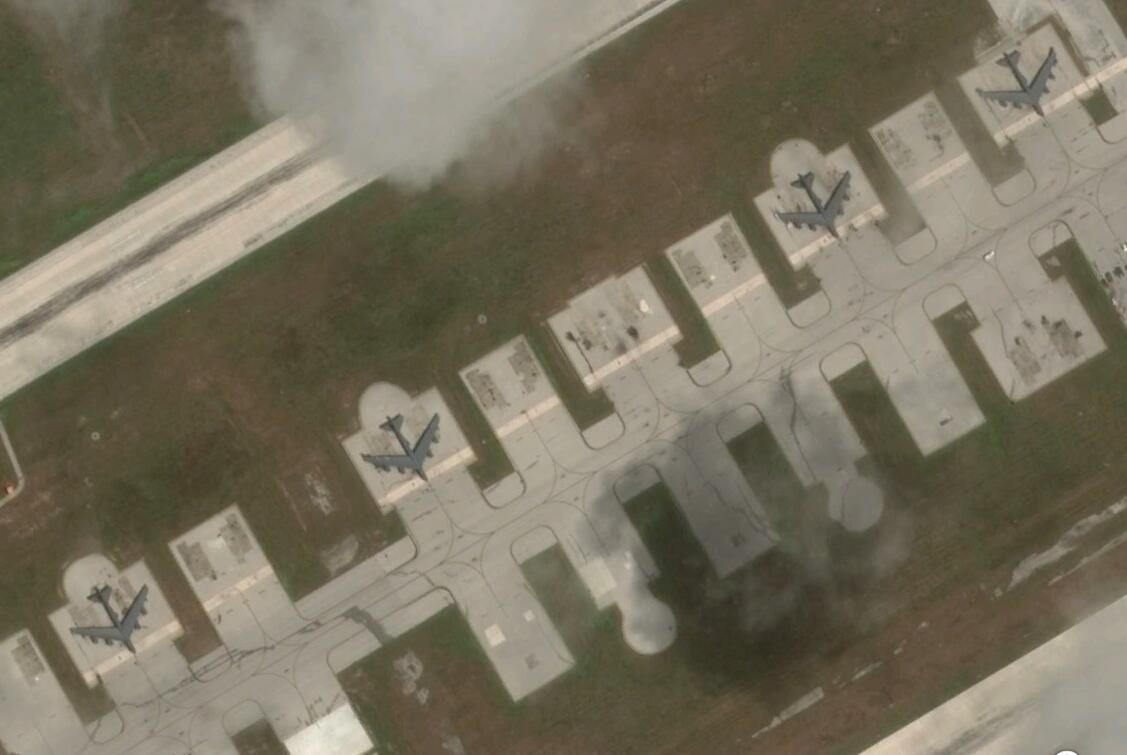A8: (980, 48, 1064, 121), (361, 414, 449, 483), (71, 585, 154, 654), (781, 168, 855, 240)
